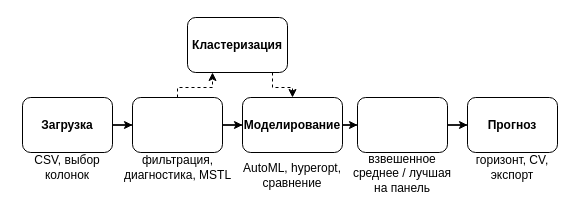
Some shapes in this 579 by 215 pixel diagram are drawn without their labels. Each missing label, with the centre of its shape:
"Ансамбль" goes at point (402, 124).
"Качество данных" goes at point (177, 124).
